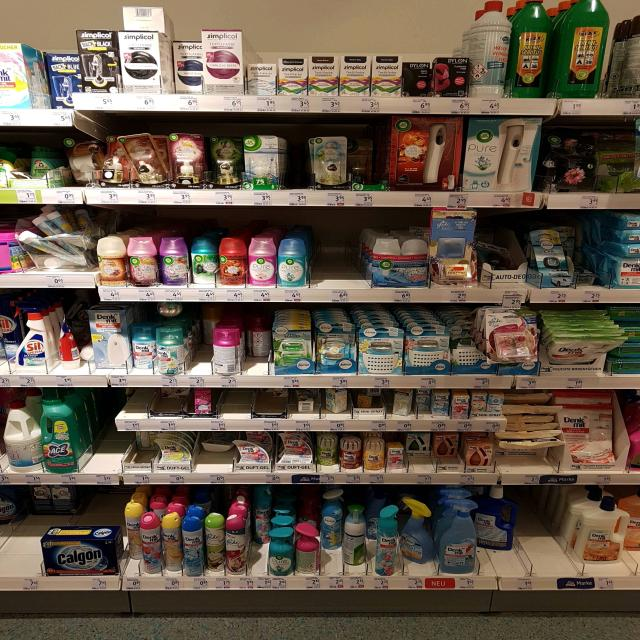void: (314, 205, 368, 286), (527, 488, 570, 580), (84, 387, 130, 469), (575, 210, 601, 283), (222, 392, 292, 418)
